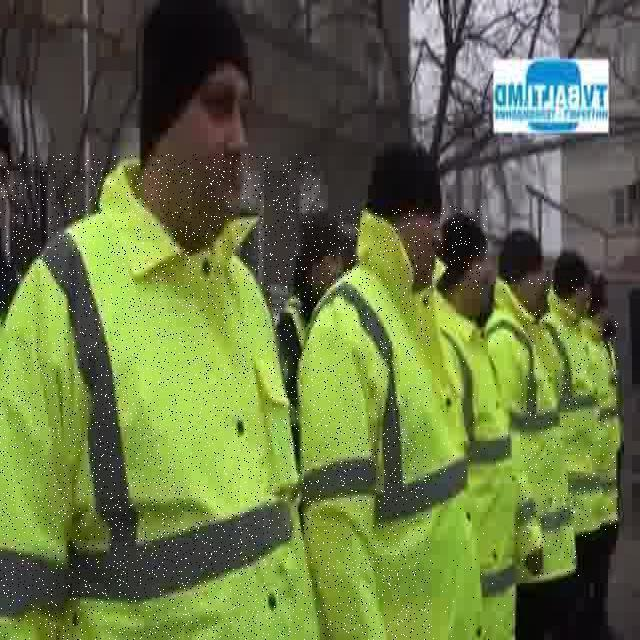safety_vest: (0, 154, 320, 640), (296, 206, 487, 640), (430, 290, 518, 640), (484, 277, 579, 578), (538, 284, 602, 538), (580, 311, 618, 530)
